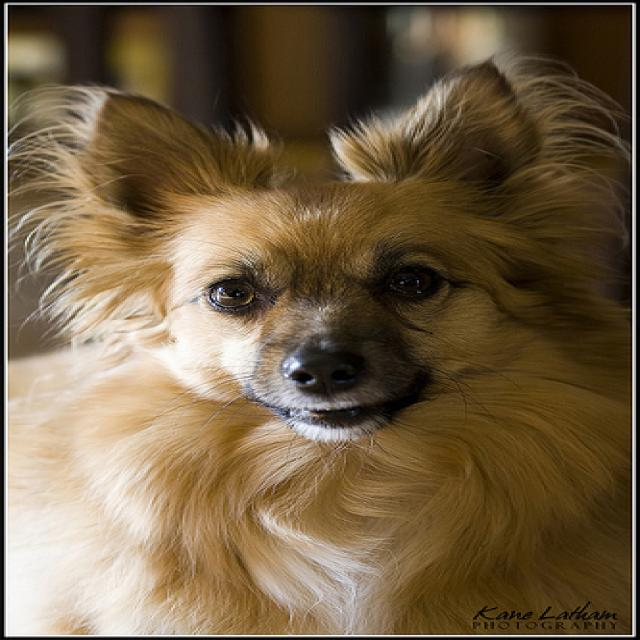dog-pomeranian: (2, 49, 636, 637)
